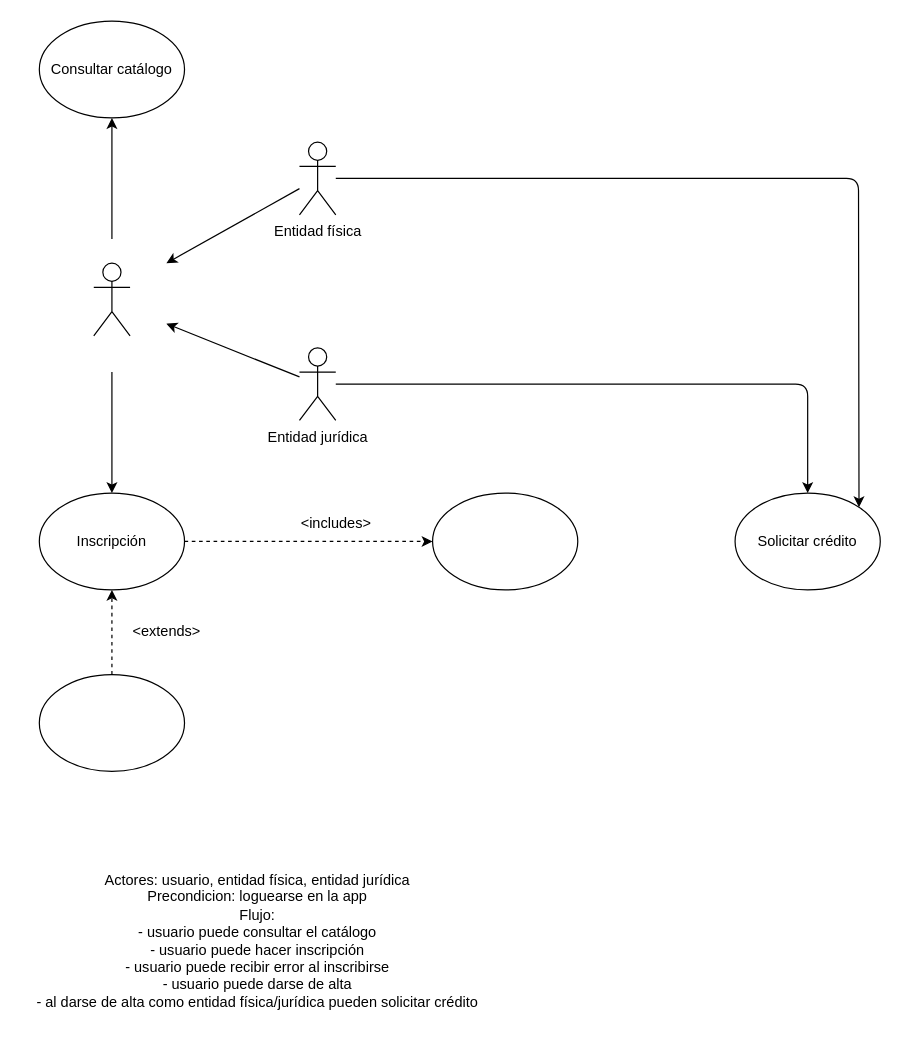
The diagram is 901 pixels wide and 1041 high, and some of its shapes have lost their labels. The box of each missing label's shape, as (x1, y1, x2, y2) in pixels:
Darse de alta: (431, 492, 578, 590)
Mostrar error: (38, 673, 185, 771)
Usuario: (93, 262, 130, 336)
